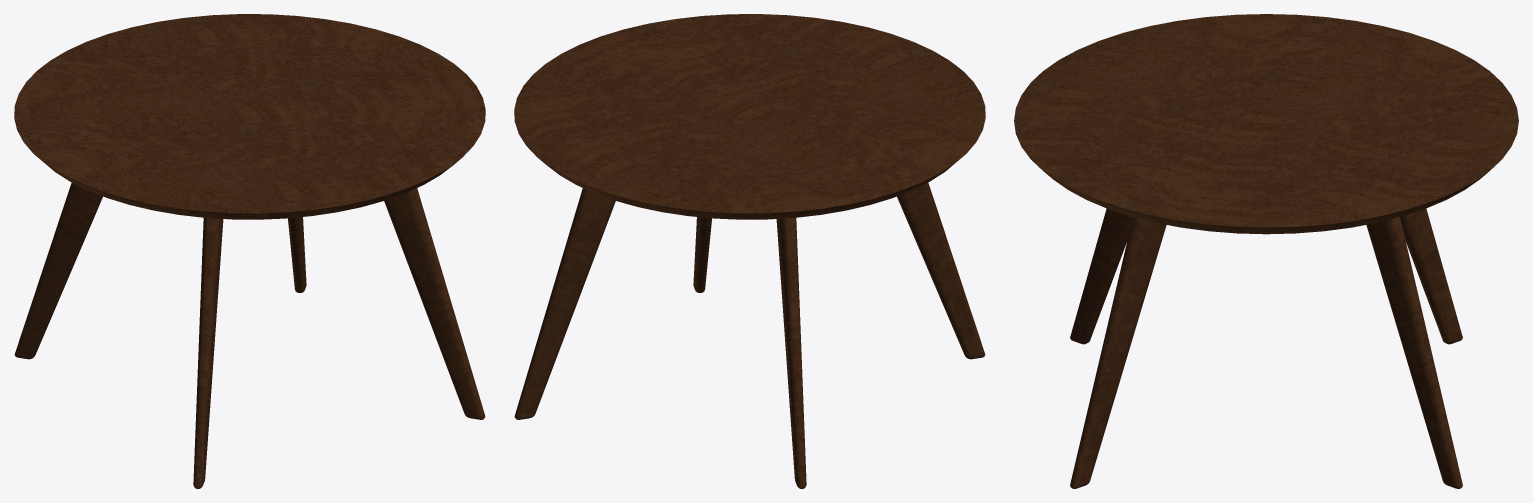
Rendered from table.glb.
3 renders of one model, left to right at view 1: azimuth 30°, elevation 25°; view 2: azimuth 150°, elevation 25°; view 3: azimuth 270°, elevation 25°, orthographic. The views are drawn at different scales.
Parts seen in each view (by area): view 1: table; view 2: table; view 3: table.
Boxes of the visible parts, bbox=[...] form: table: bbox=[14, 14, 485, 488]; table: bbox=[514, 14, 985, 488]; table: bbox=[1014, 14, 1518, 488].
Size of the model in its own units: 1.39 by 0.8927 by 1.39.
Materials: 2 (1 with a texture image).
